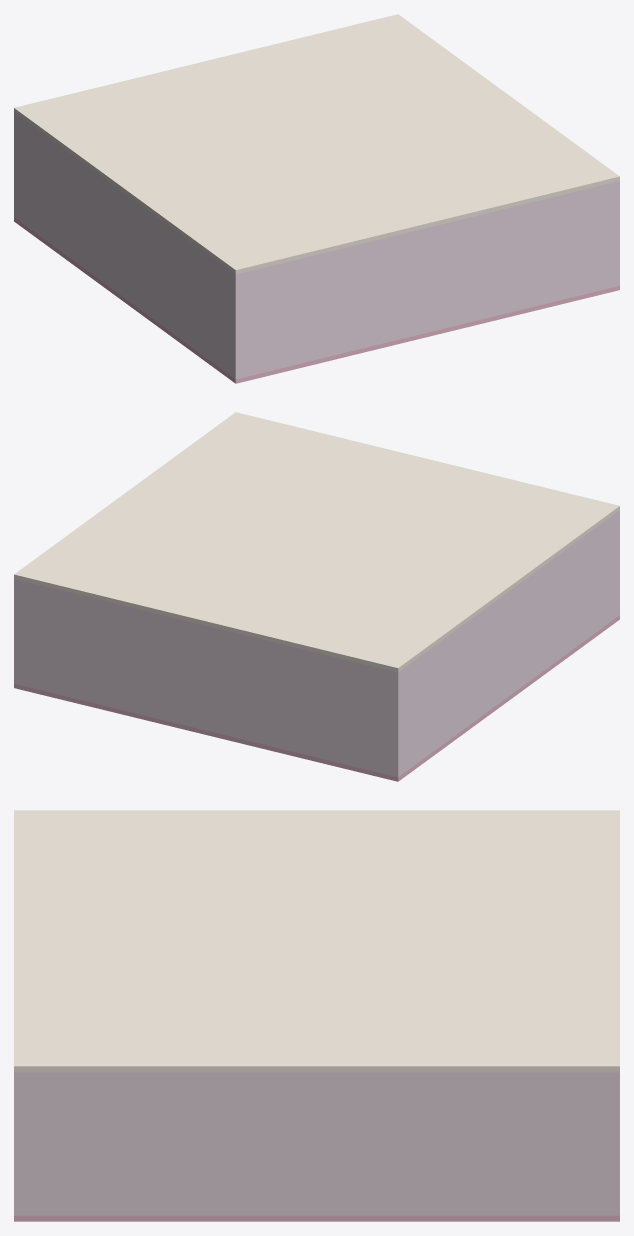
Rendered from Sala_Cascaron.fbx.
The picture shows the model from 3 angles, top to bottom: view 1: azimuth 30°, elevation 25°; view 2: azimuth 150°, elevation 25°; view 3: azimuth 270°, elevation 25°; orthographic projection. The views are drawn at different scales.
Visible parts, largest first — view 1: Techo, Pared_Sur, Pared_Oeste, Suelo; view 2: Techo, Pared_Norte, Pared_Oeste, Suelo; view 3: Techo, Pared_Este, Suelo, Pared_Norte, Pared_Sur.
Part boxes in pixels (bbox=[...]): Techo: bbox=[14, 14, 619, 274]; Pared_Sur: bbox=[233, 181, 619, 379]; Pared_Oeste: bbox=[16, 114, 233, 377]; Suelo: bbox=[14, 217, 619, 383]; Techo: bbox=[14, 412, 619, 672]; Pared_Norte: bbox=[14, 579, 400, 777]; Pared_Oeste: bbox=[400, 512, 617, 775]; Suelo: bbox=[14, 615, 619, 781]; Techo: bbox=[14, 810, 619, 1072]; Pared_Este: bbox=[20, 1072, 613, 1215]; Suelo: bbox=[14, 1215, 619, 1221]; Pared_Norte: bbox=[613, 1072, 619, 1215]; Pared_Sur: bbox=[14, 1072, 20, 1215].
Size of the model in its own units: 18.4 by 5.2 by 18.4.
